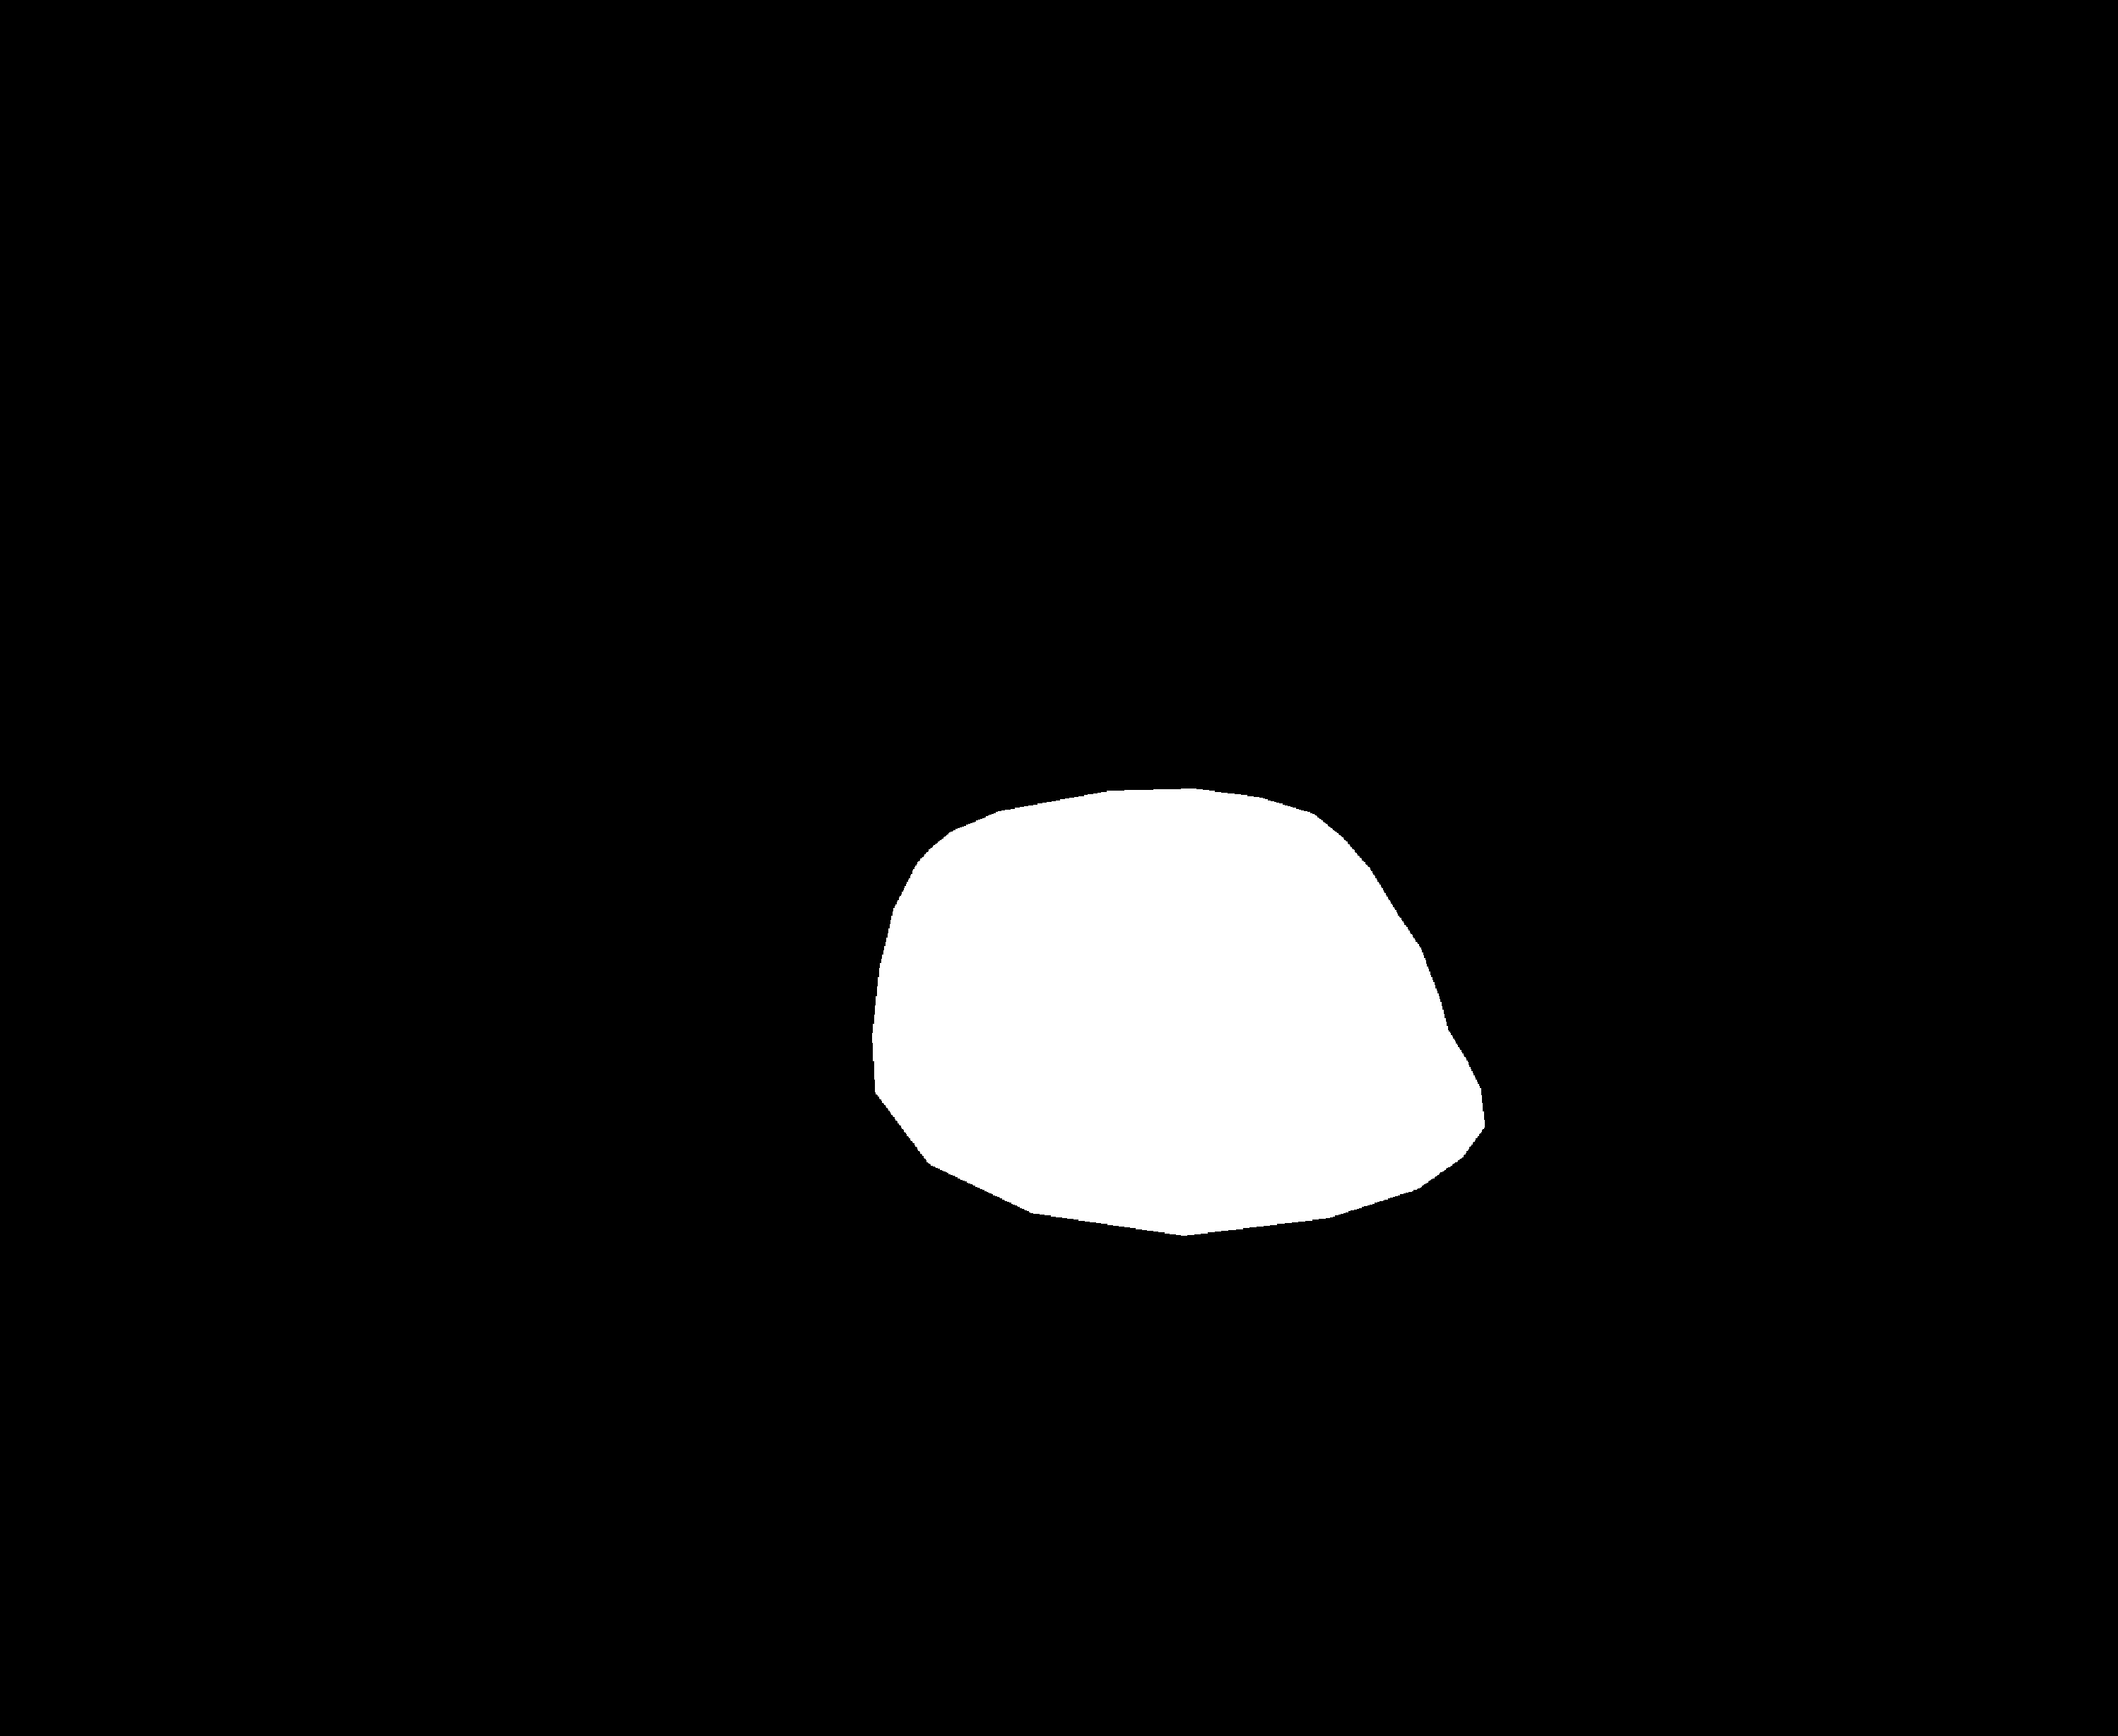heart: (878, 786, 1490, 1221)
left_lung: (406, 223, 968, 1286)
right_lung: (1078, 209, 1622, 1207)
